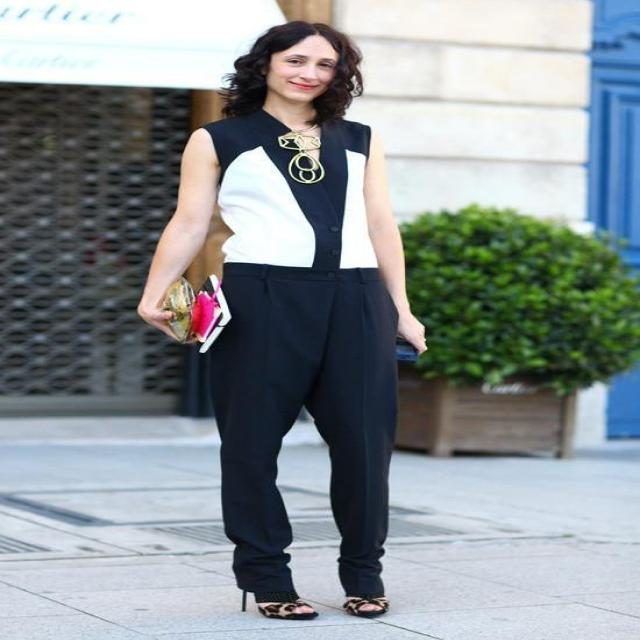pants: (209, 264, 397, 597)
shirt: (196, 111, 378, 270)
